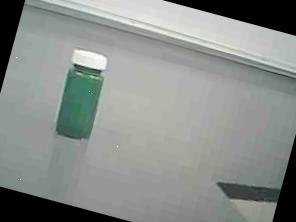Bottle C: (38, 37, 124, 153)
